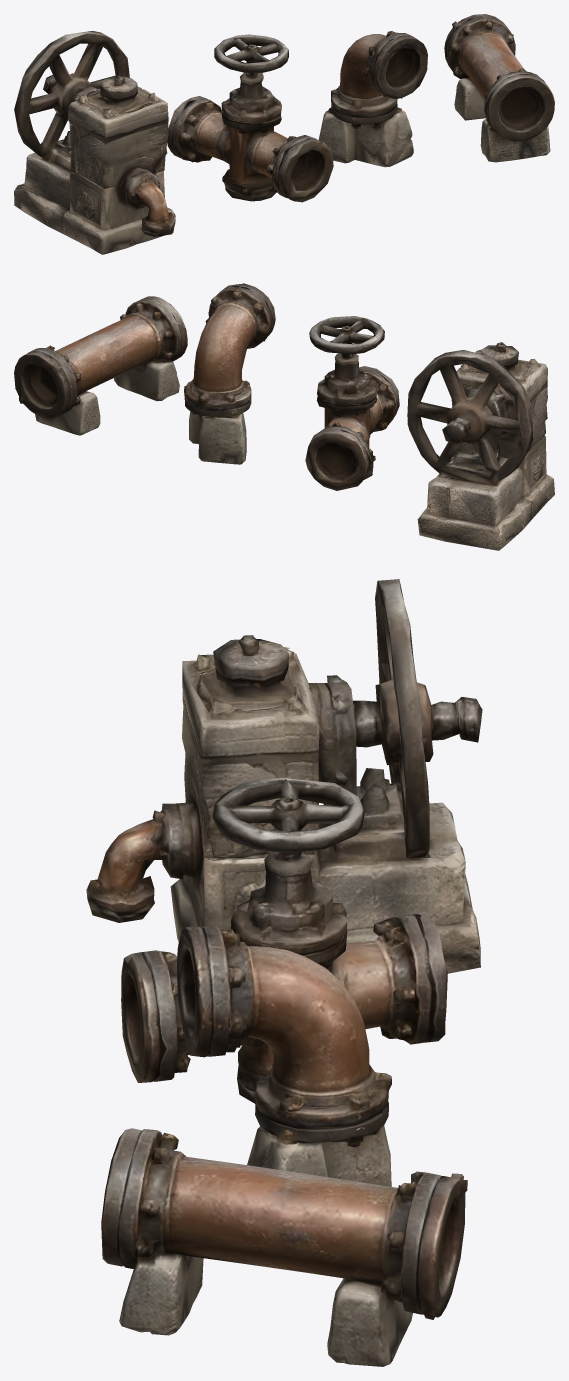
File: oil_pipes_pack.glb
3 renders of one model, top to bottom at view 1: azimuth 30°, elevation 25°; view 2: azimuth 150°, elevation 25°; view 3: azimuth 270°, elevation 25°, orthographic. The views are drawn at different scales.
Visible parts, largest first — view 1: pump_station, valve_t, straight, elbow; view 2: pump_station, straight, valve_t, elbow; view 3: pump_station, straight, valve_t, elbow.
Part boxes in pixels (x1,y1,x2,y2): pump_station: (14,31,175,254); valve_t: (167,34,333,202); straight: (444,14,554,162); elbow: (318,31,427,167); pump_station: (407,342,554,550); straight: (14,296,187,435); valve_t: (305,316,399,490); elbow: (184,283,275,464); pump_station: (86,579,482,973); straight: (101,1128,467,1366); valve_t: (121,778,447,1103); elbow: (177,926,391,1186).
Size of the model in its own units: 0.7894 by 0.2602 by 0.2675.
1 material, 1 textured.
